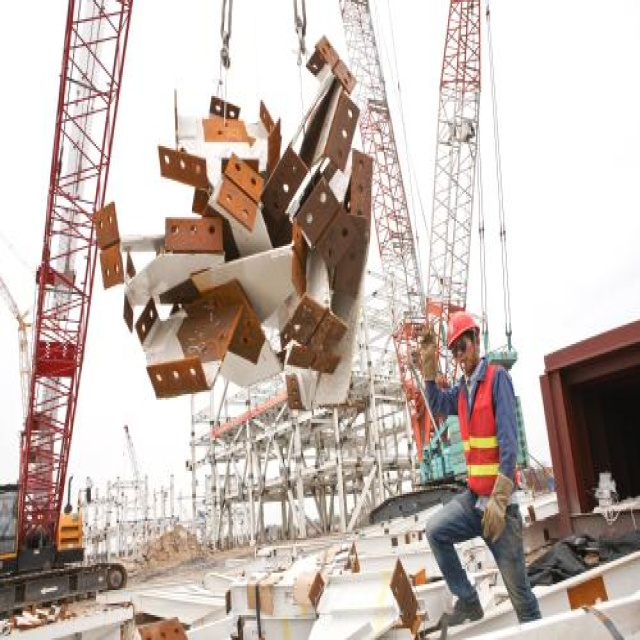Helmet: (439, 302, 492, 388)
Reflective vest: (452, 364, 524, 497)
